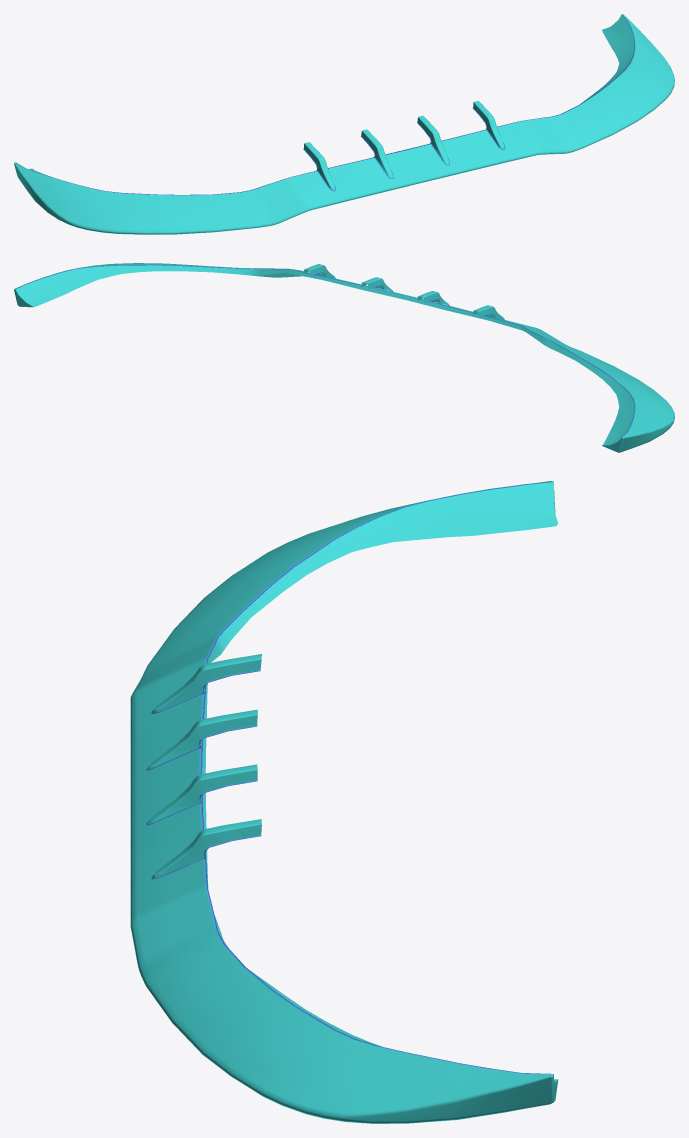
Rendered from Car_Mini_CountrymanJCW_2017_Splitter_SetB_AltH.fbx.
3 views of the same model, one above another, from view 1: azimuth 30°, elevation 25°; view 2: azimuth 150°, elevation 25°; view 3: azimuth 270°, elevation 25° (orthographic). The views are drawn at different scales.
Visible parts, largest first — view 1: Splitter 6; view 2: Splitter 6; view 3: Splitter 6.
Boxes of the visible parts, left/top/right/bottom form: Splitter 6: left=14, top=14, right=674, bottom=234; Splitter 6: left=14, top=263, right=674, bottom=452; Splitter 6: left=130, top=481, right=558, bottom=1123.
Bounding box in the file's own units: 1.71 × 0.1214 × 0.5137.
